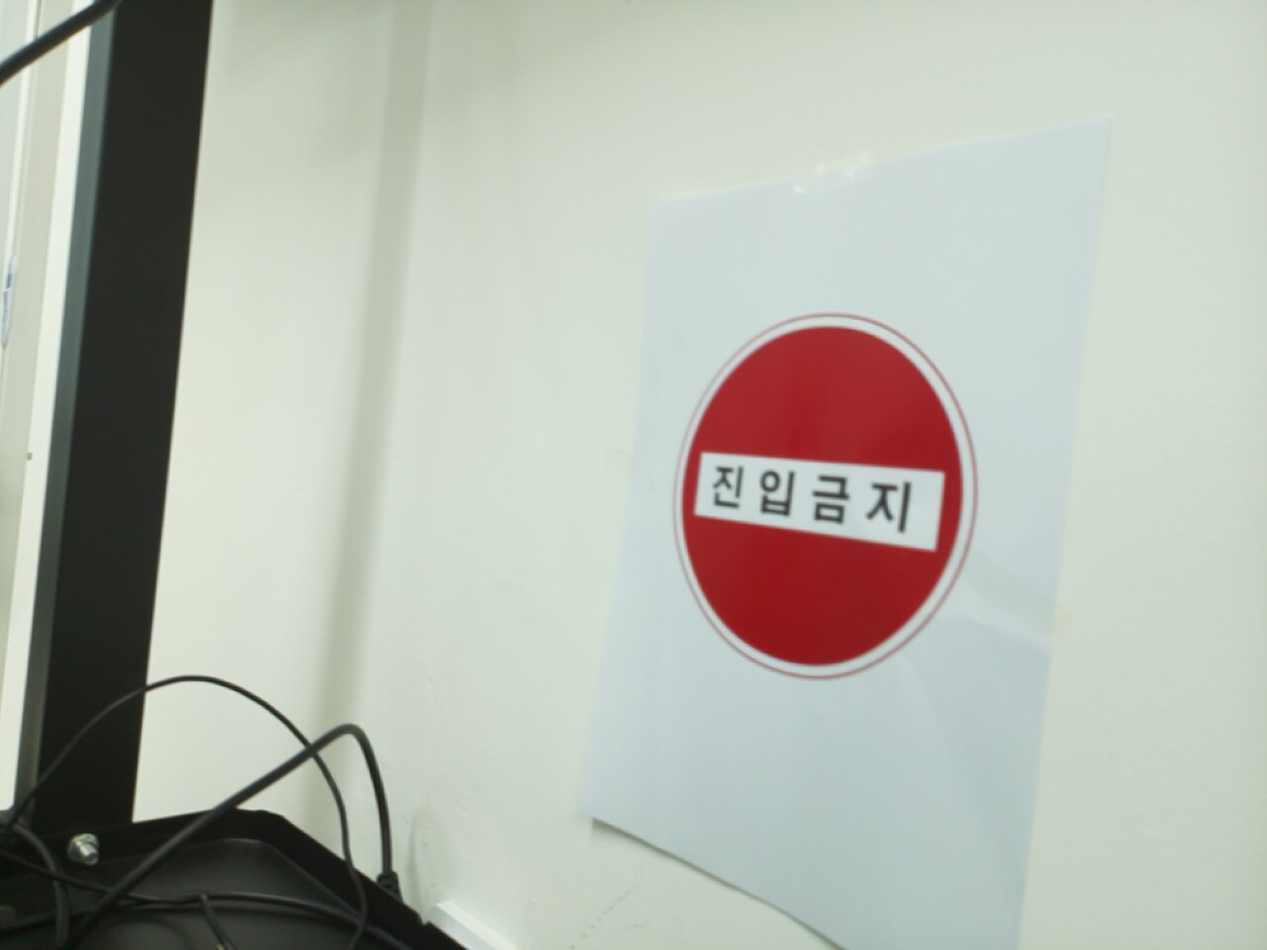do_not_enter: (673, 315, 972, 677)
